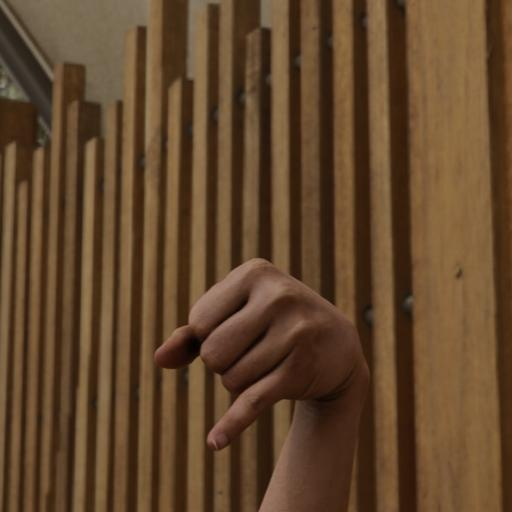J: (124, 214, 430, 494)
